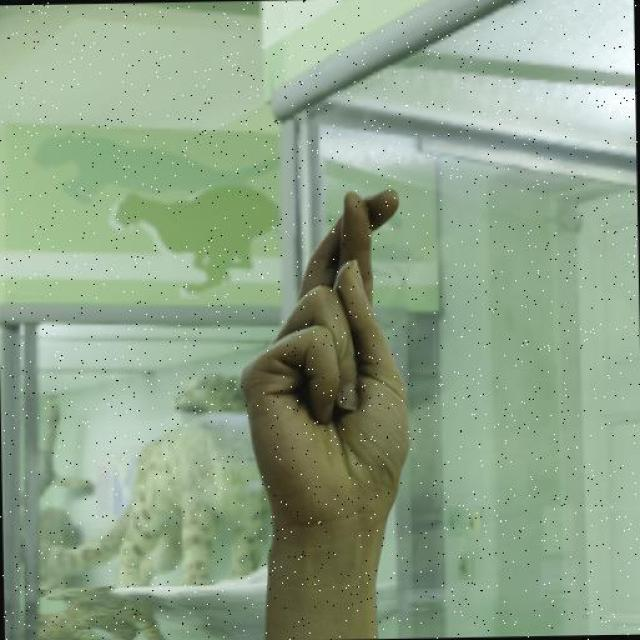R: (231, 181, 426, 553)
